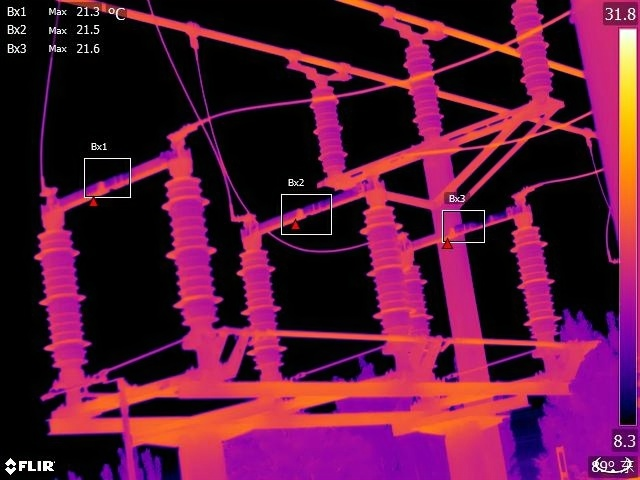clamp: (176, 10, 209, 56), (580, 119, 600, 155)
post insulator: (167, 175, 226, 337), (34, 221, 98, 370), (367, 204, 413, 343), (511, 225, 566, 339), (240, 241, 282, 366), (509, 1, 557, 98), (404, 40, 447, 140), (311, 78, 349, 173), (401, 260, 434, 340)
switch: (40, 144, 201, 220), (232, 173, 395, 238), (393, 198, 544, 261)
